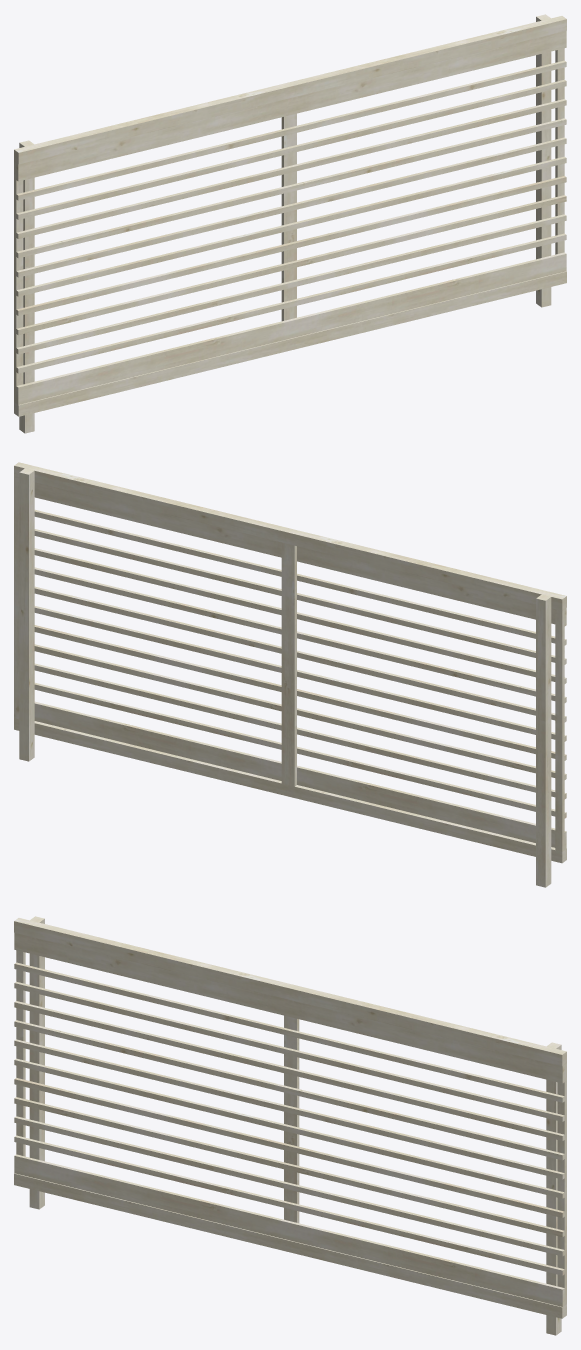
The model's file is EAFyokoitagoushi_w1998-h920_whitepine.fbx.
3 views of the same model, one above another, from view 1: azimuth 30°, elevation 25°; view 2: azimuth 150°, elevation 25°; view 3: azimuth 330°, elevation 25° (orthographic).
Parts seen in each view (by area): view 1: EAFyokoitagoushi_w1998-h920_whitepine; view 2: EAFyokoitagoushi_w1998-h920_whitepine; view 3: EAFyokoitagoushi_w1998-h920_whitepine.
Part boxes in pixels (left/top/right/bottom): EAFyokoitagoushi_w1998-h920_whitepine: left=14, top=14, right=566, bottom=433; EAFyokoitagoushi_w1998-h920_whitepine: left=14, top=462, right=566, bottom=887; EAFyokoitagoushi_w1998-h920_whitepine: left=14, top=916, right=566, bottom=1335.
Size of the model in its own units: 200 by 100 by 6.5.
1 material, 1 textured.
